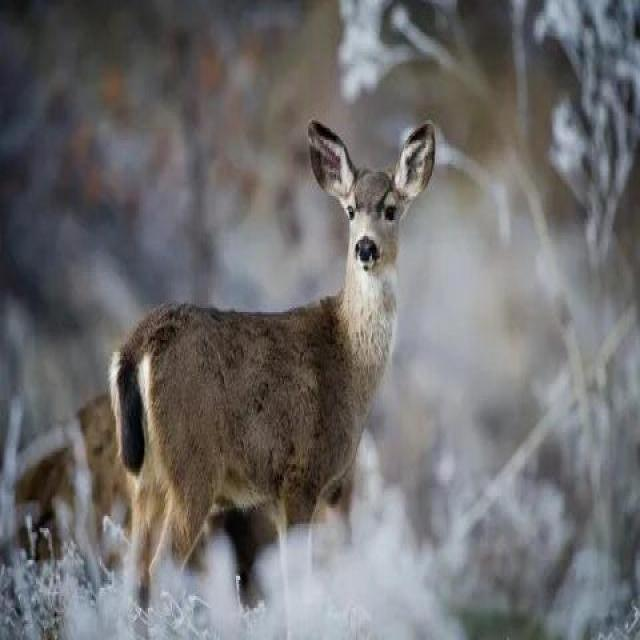deer: (67, 124, 500, 640)
